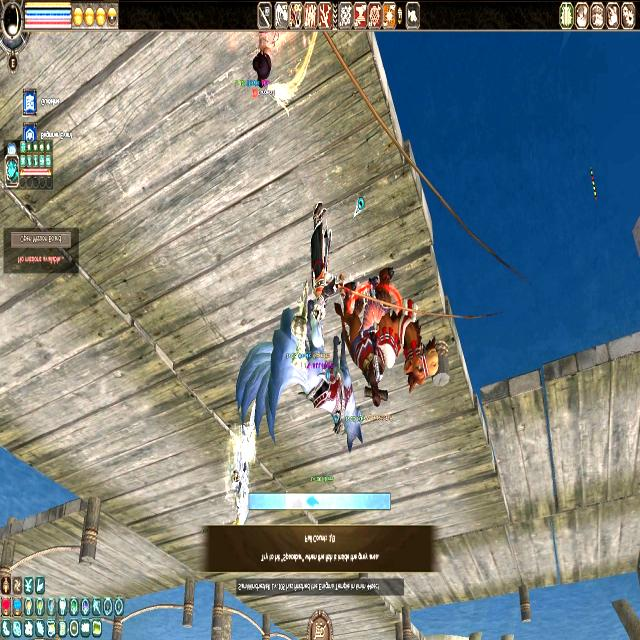fishes: (305, 494, 319, 508)
